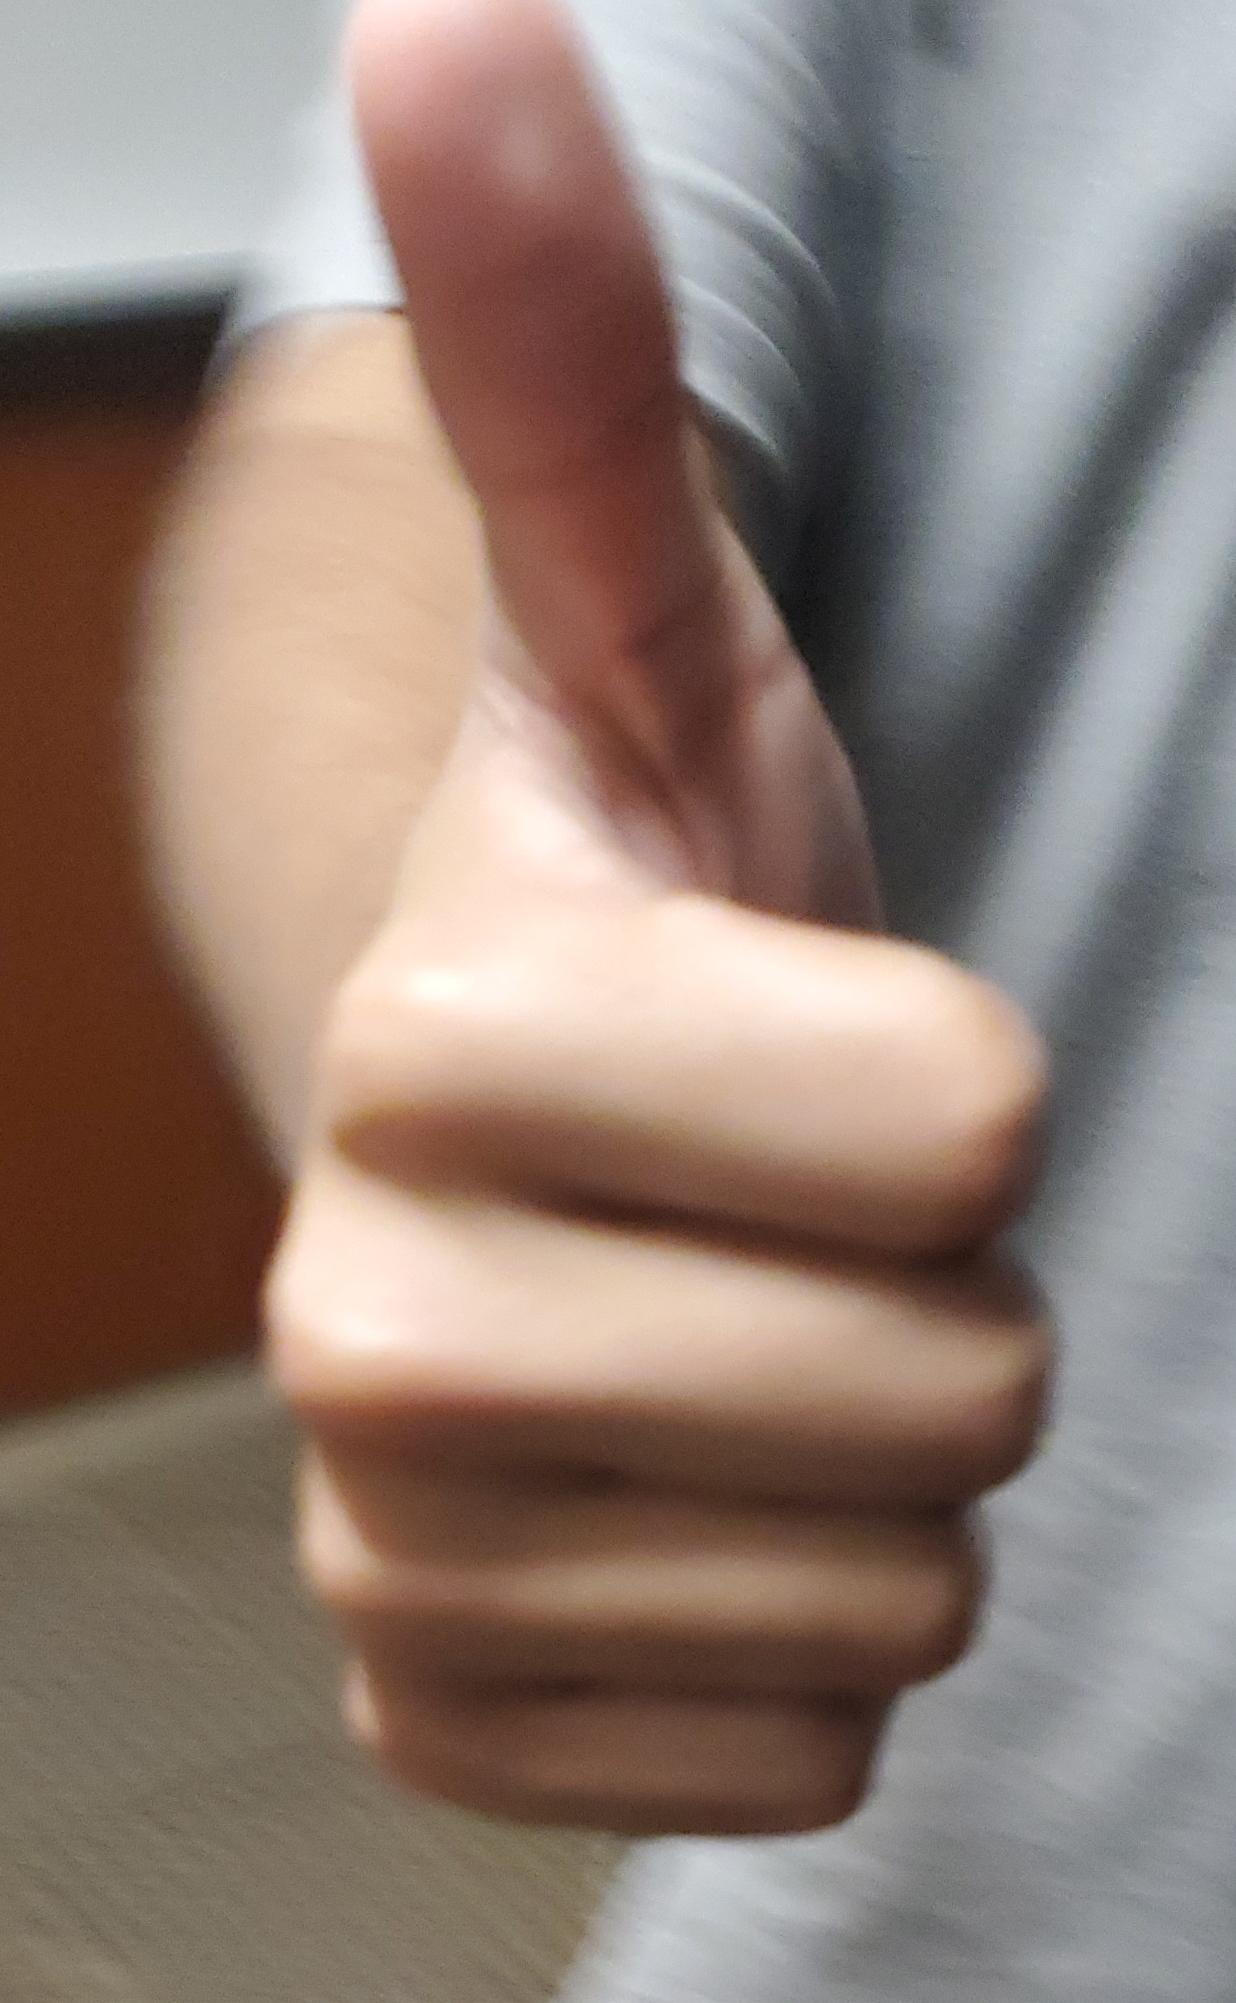up: (0, 1, 1236, 2003)
